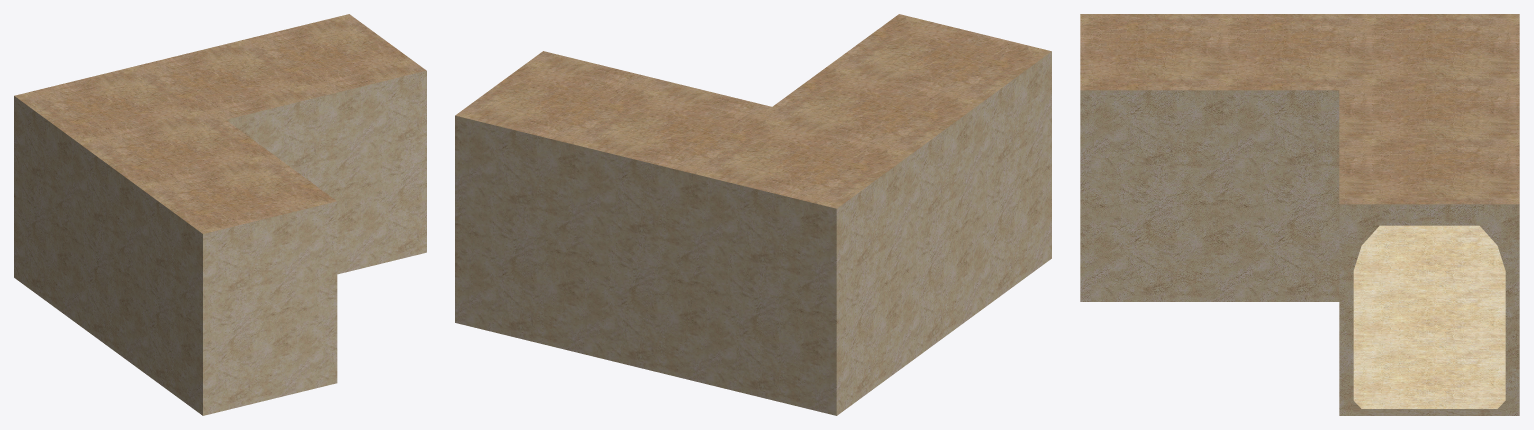
Rendered from thm_tato_block_bldg_64x16_s01_r3_spawnc_mesh_spawnc.fbx.
3 renders of one model, left to right at view 1: azimuth 30°, elevation 25°; view 2: azimuth 150°, elevation 25°; view 3: azimuth 270°, elevation 25°, orthographic. The views are drawn at different scales.
Visible parts, largest first — view 1: mesh_node; view 2: mesh_node; view 3: mesh_node.
Part boxes in pixels (x1,y1,x2,y2): mesh_node: (14,14,426,415); mesh_node: (455,14,1051,415); mesh_node: (1080,14,1519,415).
Size of the model in its own units: 6.26 by 3.25 by 6.11.
